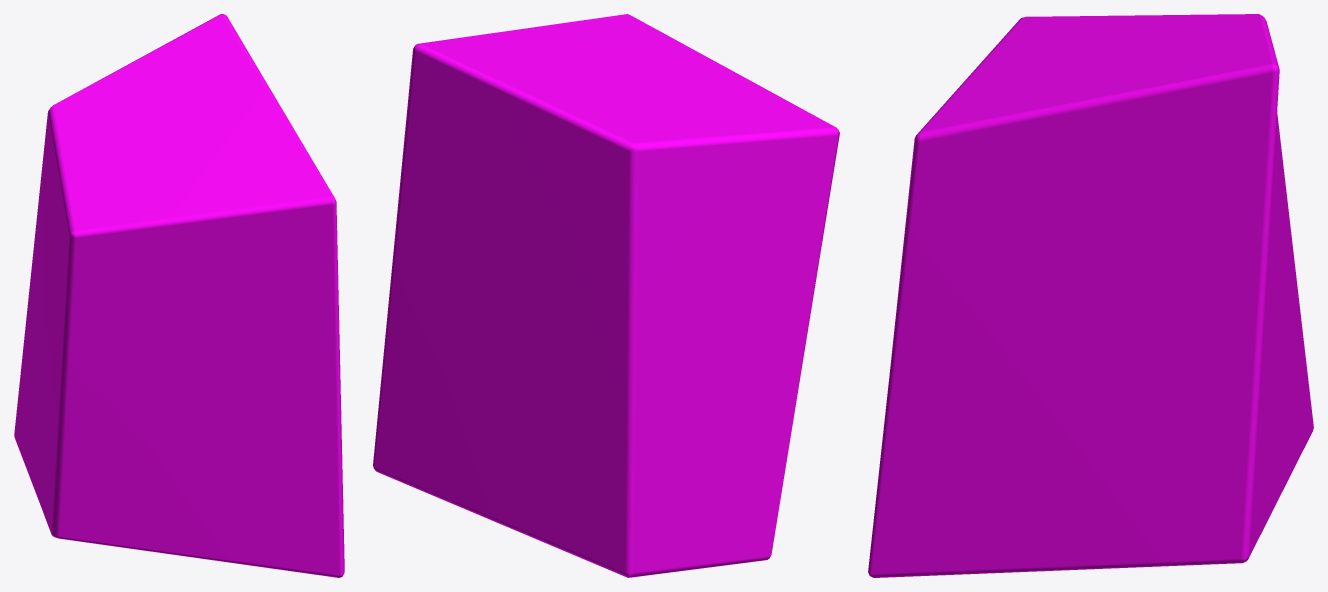
Rendered from crystalC.fbx.
3 views of the same model, side by side, from view 1: azimuth 30°, elevation 25°; view 2: azimuth 150°, elevation 25°; view 3: azimuth 270°, elevation 25° (orthographic). The views are drawn at different scales.
Visible parts, largest first — view 1: crystalC_GEO; view 2: crystalC_GEO; view 3: crystalC_GEO.
Part boxes in pixels (box(x1,y1,x2,y2)): crystalC_GEO: box(14, 14, 344, 577); crystalC_GEO: box(373, 14, 839, 577); crystalC_GEO: box(868, 14, 1313, 577).
Bounding box in the file's own units: 11.58 × 15.92 × 11.91.
